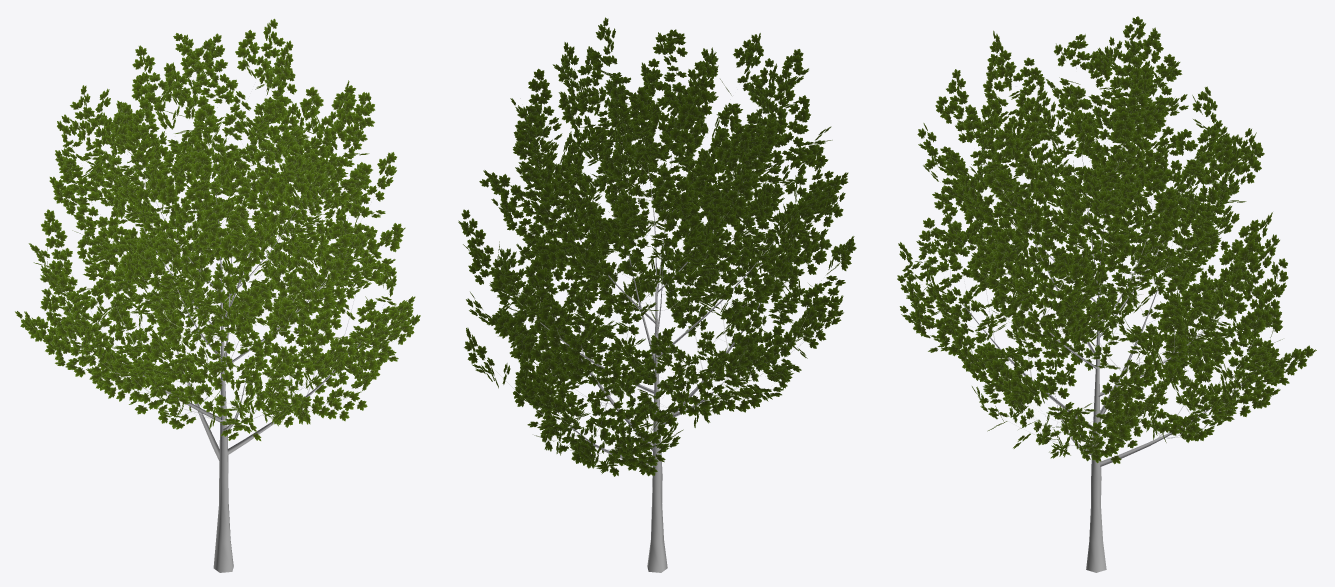
The model's file is maple-tree.obj.
The picture shows the model from 3 angles, left to right: view 1: azimuth 30°, elevation 25°; view 2: azimuth 150°, elevation 25°; view 3: azimuth 270°, elevation 25°; orthographic projection.
Visible parts, largest first — view 1: trunk, level_1; view 2: trunk, level_1; view 3: trunk, level_1.
Boxes of the visible parts, <box> form: trunk: <box>213,289,233,572</box>; level_1: <box>93,125,360,460</box>; trunk: <box>647,284,667,572</box>; level_1: <box>540,118,786,465</box>; trunk: <box>1086,287,1106,572</box>; level_1: <box>997,143,1241,466</box>.
Size of the model in its own units: 239 by 325 by 242.
